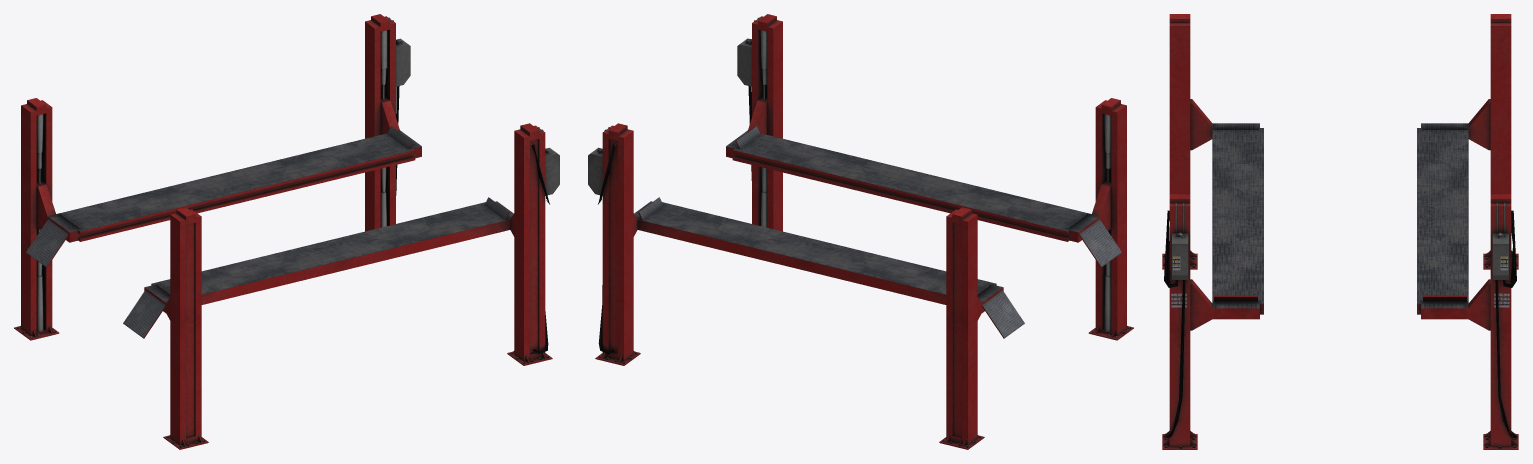
File: garage-carlift.glb
The picture shows the model from 3 angles, left to right: view 1: azimuth 30°, elevation 25°; view 2: azimuth 150°, elevation 25°; view 3: azimuth 270°, elevation 25°; orthographic projection. The views are drawn at different scales.
Parts seen in each view (by area): view 1: Carlift; view 2: Carlift; view 3: Carlift.
Boxes of the visible parts, x1,y1,x2,y2 form: Carlift: (14,14,559,449); Carlift: (588,14,1133,449); Carlift: (1162,14,1518,449).
Bounding box in the file's own units: 5.23 × 2.88 × 3.78.
Materials: 1 (1 with a texture image).
